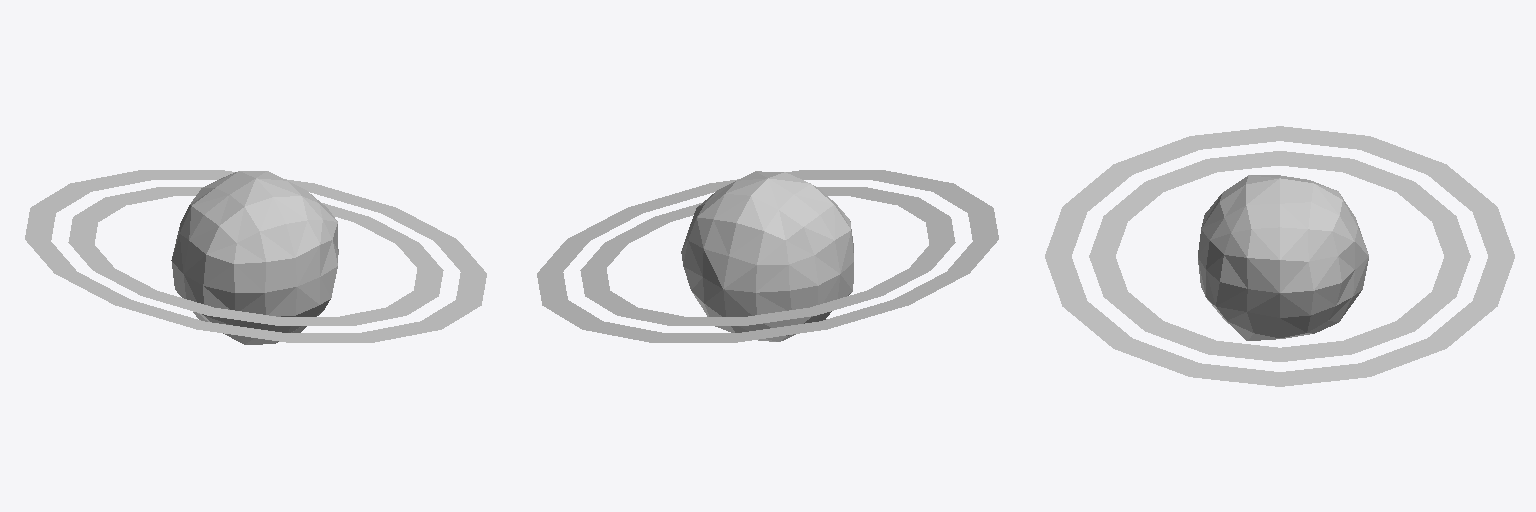
The model's file is planetProjects.obj.
3 renders of one model, left to right at view 1: azimuth 30°, elevation 25°; view 2: azimuth 150°, elevation 25°; view 3: azimuth 270°, elevation 25°, orthographic.
Visible parts, largest first — view 1: planetProjects_RING; view 2: planetProjects_RING; view 3: planetProjects_RING.
Boxes of the visible parts, x1,y1,x2,y2 form: planetProjects_RING: [25, 170, 486, 344]; planetProjects_RING: [537, 170, 998, 342]; planetProjects_RING: [1045, 126, 1514, 386].
Bounding box in the file's own units: 998 × 367 × 1009.